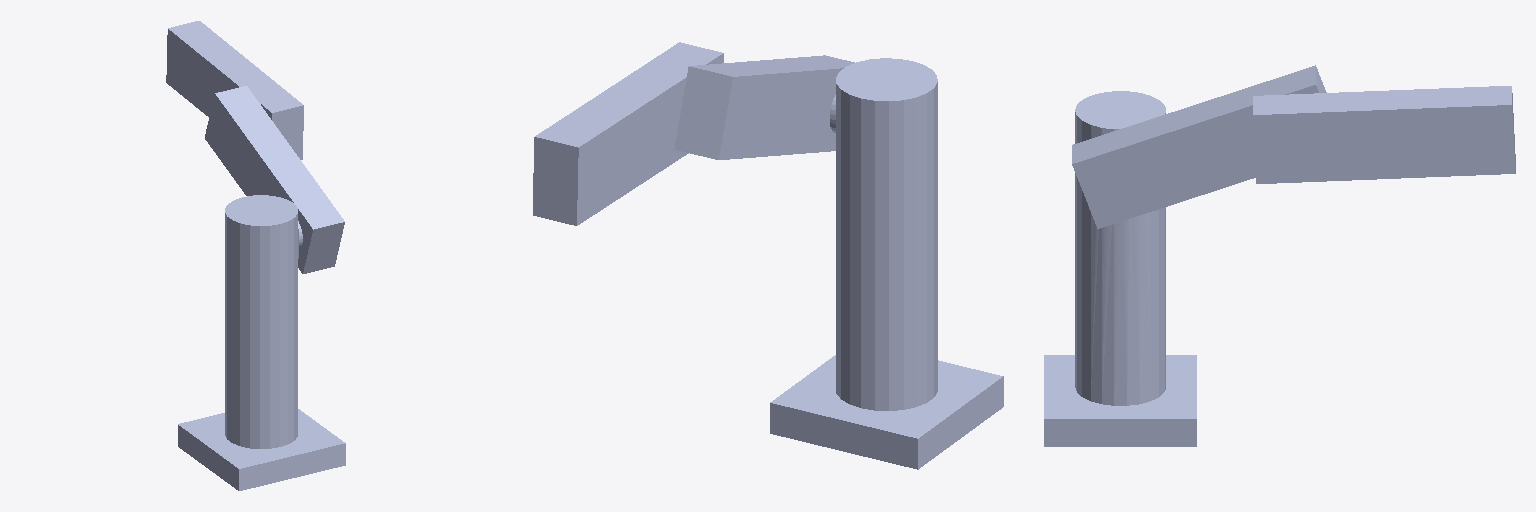
robot.urdf — ROBOT2GDL.SLDASM:
<?xml version="1.0" encoding="utf-8"?>
<!-- This URDF was automatically created by SolidWorks to URDF Exporter! Originally created by [author] ([email redacted]) 
     Commit Version: 1.6.0-4-g7f85cfe  Build Version: 1.6.7995.38578
     For more information, please see http://wiki.ros.org/sw_urdf_exporter -->
<robot
  name="ROBOT2GDL.SLDASM">
  <link
    name="base_link">
    <inertial>
      <origin
        xyz="0.0017289 0.46145 -1.0068E-07"
        rpy="0 0 0" />
      <mass
        value="96.656" />
      <inertia
        ixx="12.672"
        ixy="-0.084853"
        ixz="2.6395E-08"
        iyy="1.8671"
        iyz="5.2536E-06"
        izz="12.699" />
    </inertial>
    <visual>
      <origin
        xyz="0 0 0"
        rpy="0 0 0" />
      <geometry>
        <mesh
          filename="package://ROBOT2GDL.SLDASM/meshes/base_link.STL" />
      </geometry>
      <material
        name="">
        <color
          rgba="0.79216 0.81961 0.93333 1" />
      </material>
    </visual>
    <collision>
      <origin
        xyz="0 0 0"
        rpy="0 0 0" />
      <geometry>
        <mesh
          filename="package://ROBOT2GDL.SLDASM/meshes/base_link.STL" />
      </geometry>
    </collision>
  </link>
  <link
    name="Eslabon1">
    <inertial>
      <origin
        xyz="0.31663 -3.3307E-16 0.079158"
        rpy="0 0 0" />
      <mass
        value="31.875" />
      <inertia
        ixx="0.23186"
        ixy="-1.2351E-15"
        ixz="-0.011049"
        iyy="1.9762"
        iyz="-4.7271E-17"
        izz="2.0763" />
    </inertial>
    <visual>
      <origin
        xyz="0 0 0"
        rpy="0 0 0" />
      <geometry>
        <mesh
          filename="package://ROBOT2GDL.SLDASM/meshes/Eslabon1.STL" />
      </geometry>
      <material
        name="">
        <color
          rgba="0.79216 0.81961 0.93333 1" />
      </material>
    </visual>
    <collision>
      <origin
        xyz="0 0 0"
        rpy="0 0 0" />
      <geometry>
        <mesh
          filename="package://ROBOT2GDL.SLDASM/meshes/Eslabon1.STL" />
      </geometry>
    </collision>
  </link>
  <joint
    name="joint0"
    type="revolute">
    <origin
      xyz="0.15 0 0.96927"
      rpy="1.5708 -0.34574 1.5708" />
    <parent
      link="base_link" />
    <child
      link="Eslabon1" />
    <axis
      xyz="0 0 1" />
    <limit
      lower="0"
      upper="0"
      effort="0"
      velocity="0" />
  </joint>
  <link
    name="Eslabon2">
    <inertial>
      <origin
        xyz="0.30855 6.6613E-16 0.076426"
        rpy="0 0 0" />
      <mass
        value="30.991" />
      <inertia
        ixx="0.22208"
        ixy="-4.8243E-15"
        ixz="0.013631"
        iyy="1.8934"
        iyz="7.546E-17"
        izz="2.0009" />
    </inertial>
    <visual>
      <origin
        xyz="0 0 0"
        rpy="0 0 0" />
      <geometry>
        <mesh
          filename="package://ROBOT2GDL.SLDASM/meshes/Eslabon2.STL" />
      </geometry>
      <material
        name="">
        <color
          rgba="0.79216 0.81961 0.93333 1" />
      </material>
    </visual>
    <collision>
      <origin
        xyz="0 0 0"
        rpy="0 0 0" />
      <geometry>
        <mesh
          filename="package://ROBOT2GDL.SLDASM/meshes/Eslabon2.STL" />
      </geometry>
    </collision>
  </link>
  <joint
    name="joint1"
    type="revolute">
    <origin
      xyz="0.6 0 0.15"
      rpy="0 0 -0.30158" />
    <parent
      link="Eslabon1" />
    <child
      link="Eslabon2" />
    <axis
      xyz="0 0 1" />
    <limit
      lower="0"
      upper="0"
      effort="0"
      velocity="0" />
  </joint>
</robot>

--- Facts derived from the render (not from the file) ---
The picture shows the robot from 3 angles, left to right: view 1: azimuth 30°, elevation 25°; view 2: azimuth 150°, elevation 25°; view 3: azimuth 270°, elevation 25°; orthographic projection.
Model ROBOT2GDL.SLDASM with 3 links and 2 joints (2 revolute), rooted at base_link, posed all joints at 0.
Visible links, largest first — view 1: base_link, Eslabon1, Eslabon2; view 2: base_link, Eslabon2, Eslabon1; view 3: base_link, Eslabon2, Eslabon1.
Boxes of the visible links, box(x1,y1,x2,y2) form: base_link: box(178, 195, 345, 490); Eslabon1: box(205, 86, 344, 273); Eslabon2: box(166, 21, 303, 159); base_link: box(770, 58, 1003, 469); Eslabon2: box(533, 42, 723, 225); Eslabon1: box(674, 55, 854, 159); base_link: box(1044, 91, 1196, 446); Eslabon2: box(1253, 86, 1515, 183); Eslabon1: box(1072, 65, 1326, 228).
Bounding box of the posed robot: 0.7 × 1.54 × 1.33 m (x, y, z).
3 mesh visuals loaded from 3 distinct referenced files (3 binary STL).